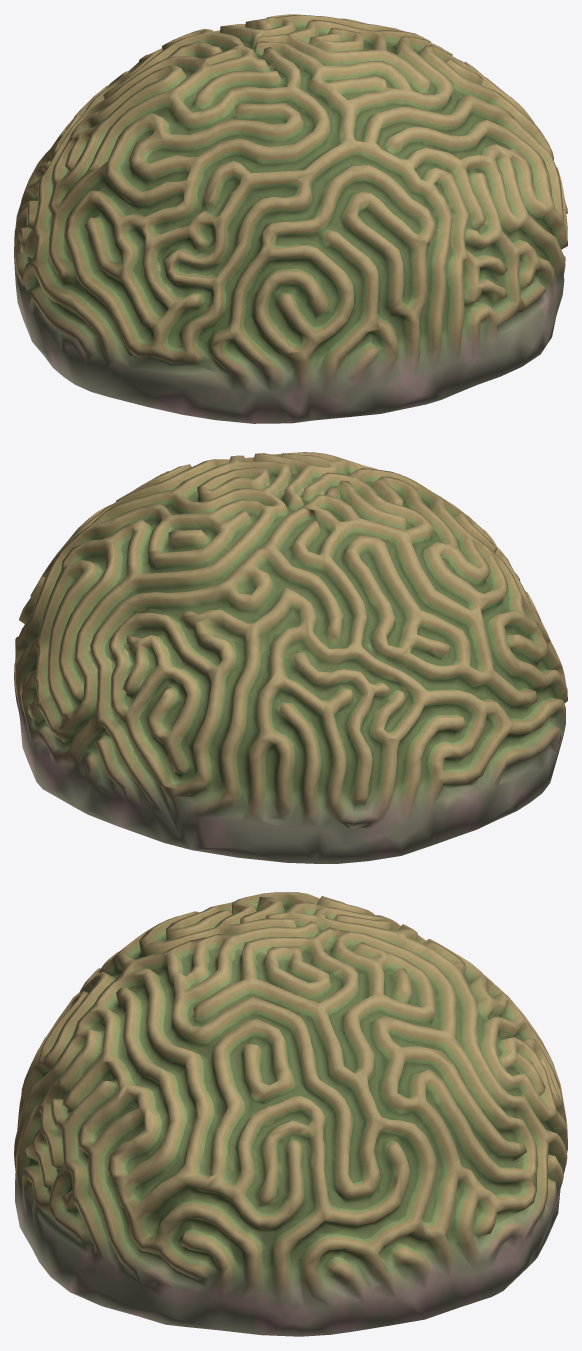
The model's file is Coral_Brain.gltf.
3 renders of one model, top to bottom at view 1: azimuth 30°, elevation 25°; view 2: azimuth 150°, elevation 25°; view 3: azimuth 270°, elevation 25°, orthographic. The views are drawn at different scales.
Parts seen in each view (by area): view 1: Coral_Brain; view 2: Coral_Brain; view 3: Coral_Brain.
Part boxes in pixels (box(x1,y1,x2,y2)): Coral_Brain: box(14, 14, 567, 423); Coral_Brain: box(14, 452, 567, 863); Coral_Brain: box(14, 892, 567, 1336).
Bounding box in the file's own units: 0.8361 × 0.4405 × 0.7713.
1 material, 1 textured.
